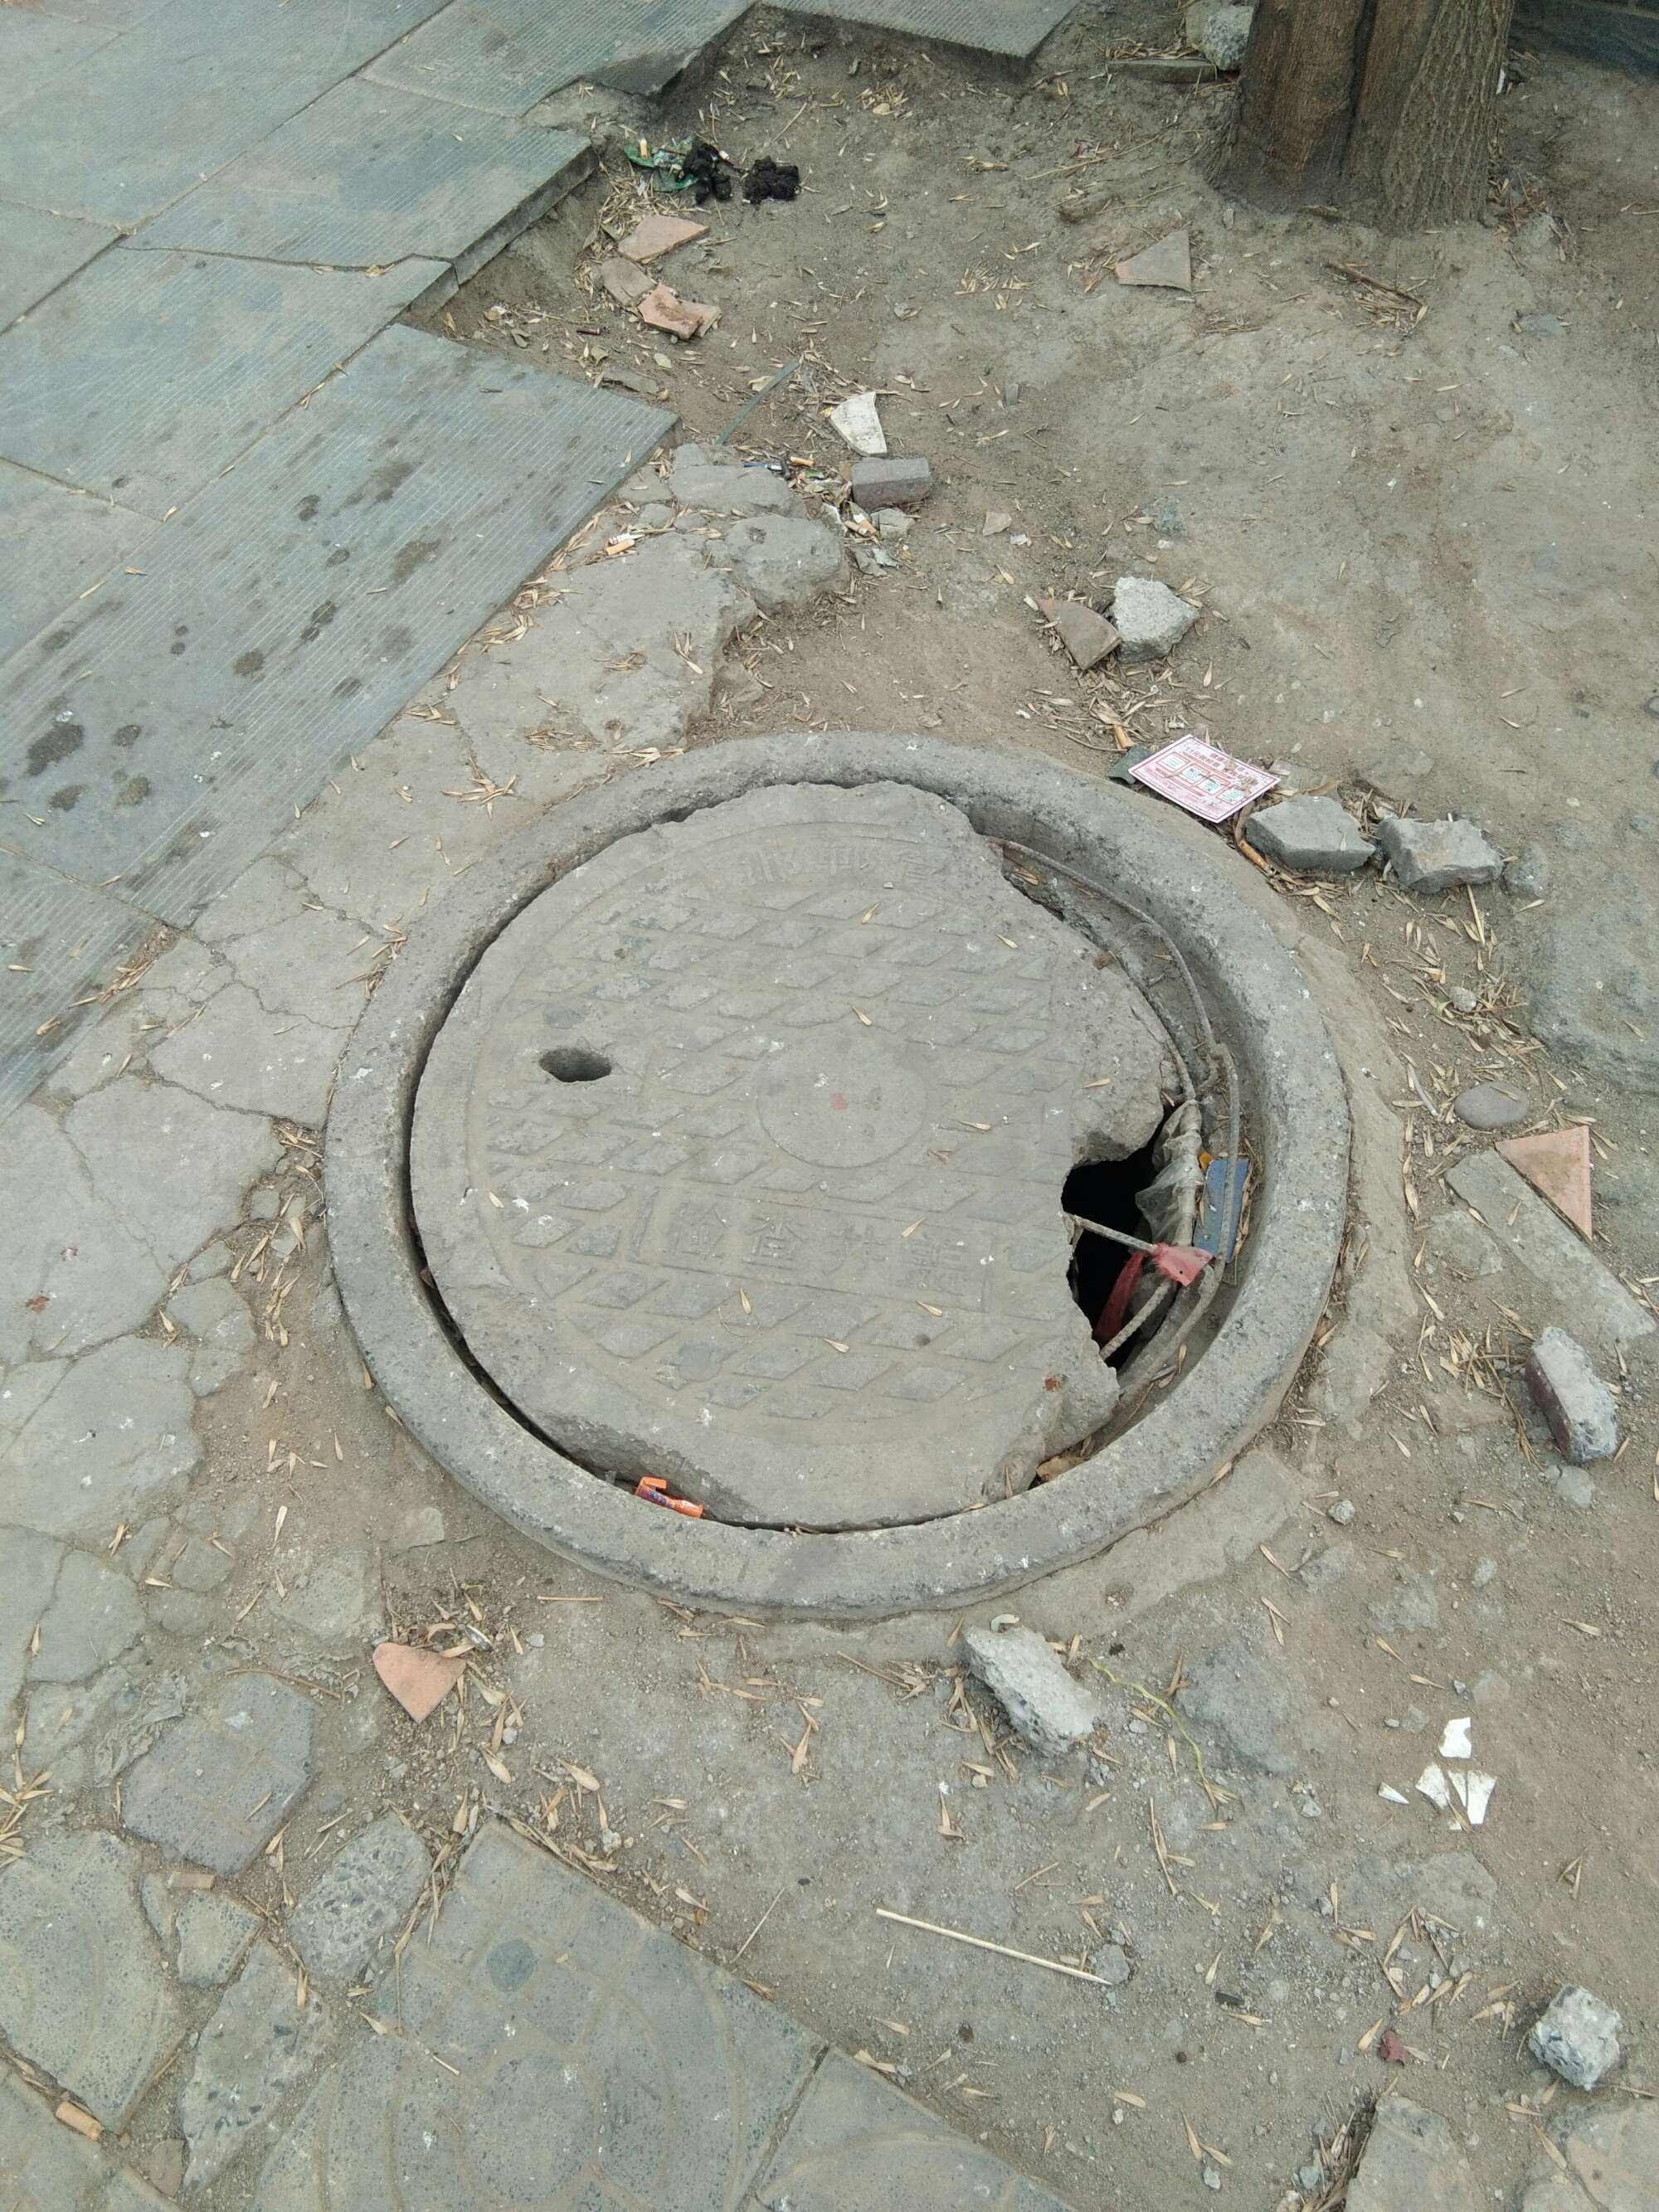broke: (314, 728, 1351, 1637)
